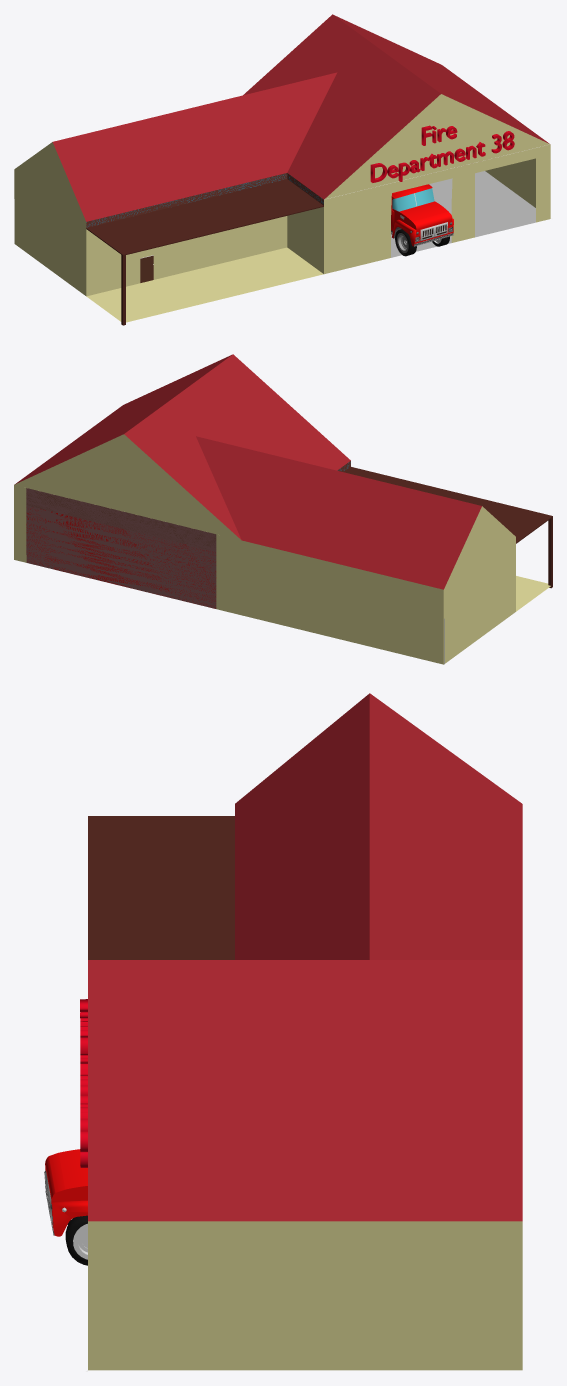
File: firestation.fbx
3 views of the same model, one above another, from view 1: azimuth 30°, elevation 25°; view 2: azimuth 150°, elevation 25°; view 3: azimuth 270°, elevation 25° (orthographic). The views are drawn at different scales.
Parts seen in each view (by area): view 1: instance_0.009, instance_0.003, instance_0.006, instance_0.014, instance_0.012, instance_0.001, instance_0.010, instance_0.016, Object, instance_0.007, instance_0.013, instance_0.032 (+2 smaller); view 2: instance_0.009, instance_0.006, instance_0.003, instance_0.030, instance_0.002, instance_0, instance_0.034, instance_0.012, instance_0.007, instance_0.010, instance_0.011; view 3: instance_0.003, instance_0.032, instance_0.009, instance_0.012, SketchUp.094, Object.
Part boxes in pixels (x1=…): instance_0.009: x1=52, y1=72, x2=337, y2=221; instance_0.003: x1=243, y1=14, x2=549, y2=199; instance_0.006: x1=14, y1=169, x2=287, y2=296; instance_0.014: x1=287, y1=144, x2=550, y2=274; instance_0.012: x1=86, y1=179, x2=323, y2=323; instance_0.001: x1=325, y1=94, x2=549, y2=199; instance_0.010: x1=86, y1=247, x2=323, y2=322; instance_0.016: x1=391, y1=171, x2=535, y2=257; Object: x1=370, y1=125, x2=514, y2=182; instance_0.007: x1=14, y1=142, x2=85, y2=221; instance_0.013: x1=86, y1=173, x2=323, y2=227; instance_0.032: x1=485, y1=158, x2=535, y2=207; instance_0.009: x1=196, y1=436, x2=481, y2=589; instance_0.006: x1=241, y1=537, x2=515, y2=664; instance_0.003: x1=14, y1=354, x2=350, y2=539; instance_0.030: x1=26, y1=505, x2=216, y2=608; instance_0.002: x1=14, y1=434, x2=240, y2=540; instance_0: x1=26, y1=488, x2=216, y2=551; instance_0.034: x1=14, y1=485, x2=241, y2=615; instance_0.012: x1=344, y1=467, x2=552, y2=542; instance_0.007: x1=444, y1=506, x2=515, y2=589; instance_0.010: x1=516, y1=576, x2=550, y2=611; instance_0.011: x1=516, y1=516, x2=552, y2=588; instance_0.003: x1=88, y1=960, x2=522, y2=1221; instance_0.032: x1=88, y1=1221, x2=522, y2=1370; instance_0.009: x1=235, y1=693, x2=522, y2=959; instance_0.012: x1=88, y1=816, x2=234, y2=959; SketchUp.094: x1=48, y1=1168, x2=87, y2=1236; Object: x1=80, y1=999, x2=87, y2=1167.
Bounding box in the file's own units: 2602 × 892 × 1254.
